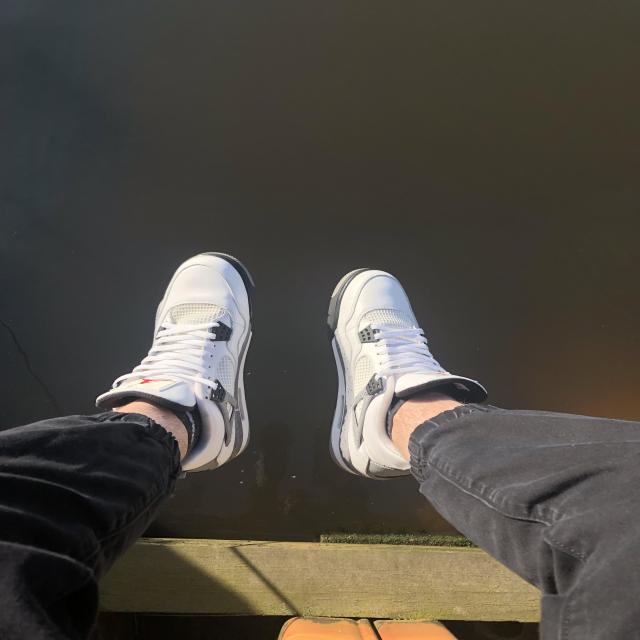shoe: (310, 259, 500, 500), (92, 244, 273, 486)
